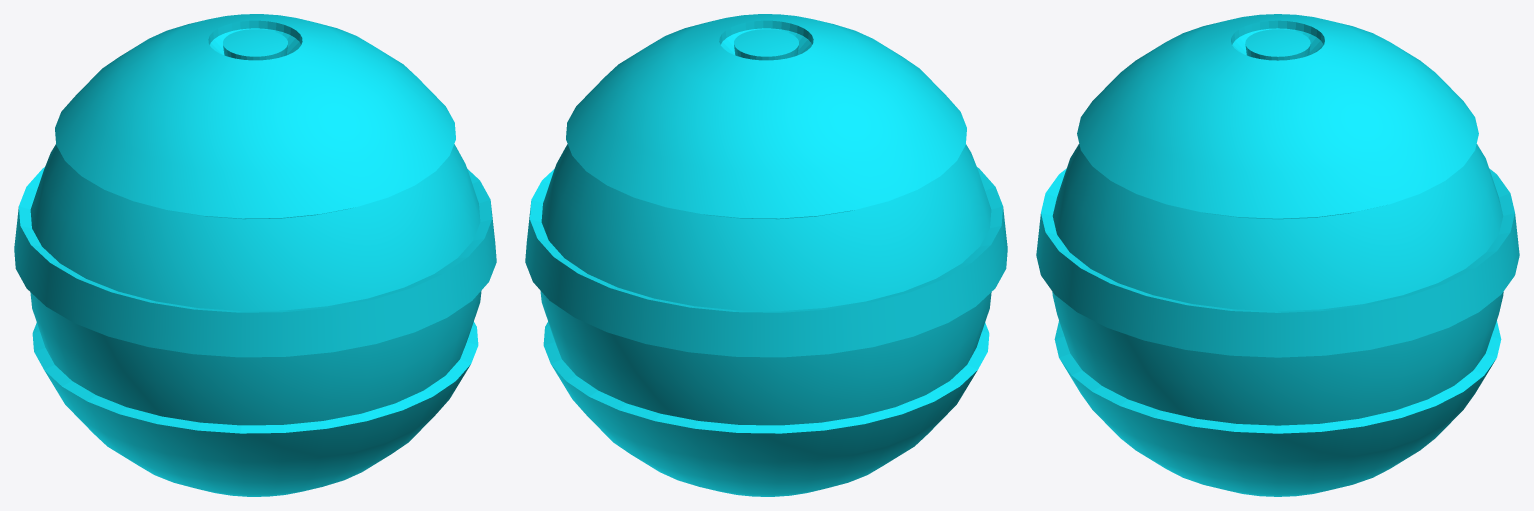
The model's file is Nucleo.FBX.
3 views of the same model, side by side, from view 1: azimuth 30°, elevation 25°; view 2: azimuth 150°, elevation 25°; view 3: azimuth 270°, elevation 25° (orthographic).
Parts seen in each view (by area): view 1: Nucleo; view 2: Nucleo; view 3: Nucleo.
Part boxes in pixels (x1,y1,x2,y2): Nucleo: (14, 14, 496, 496); Nucleo: (525, 14, 1007, 496); Nucleo: (1036, 14, 1519, 496).
Bounding box in the file's own units: 12.4 × 12.3 × 12.4.
